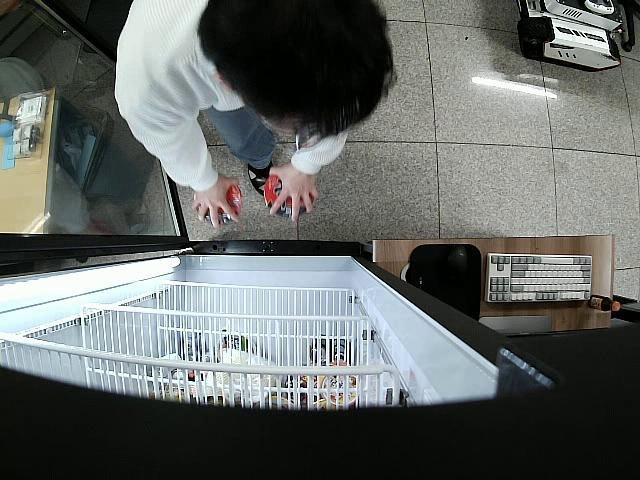01_ShinRamen_L: (264, 173, 315, 219), (198, 184, 246, 226)
